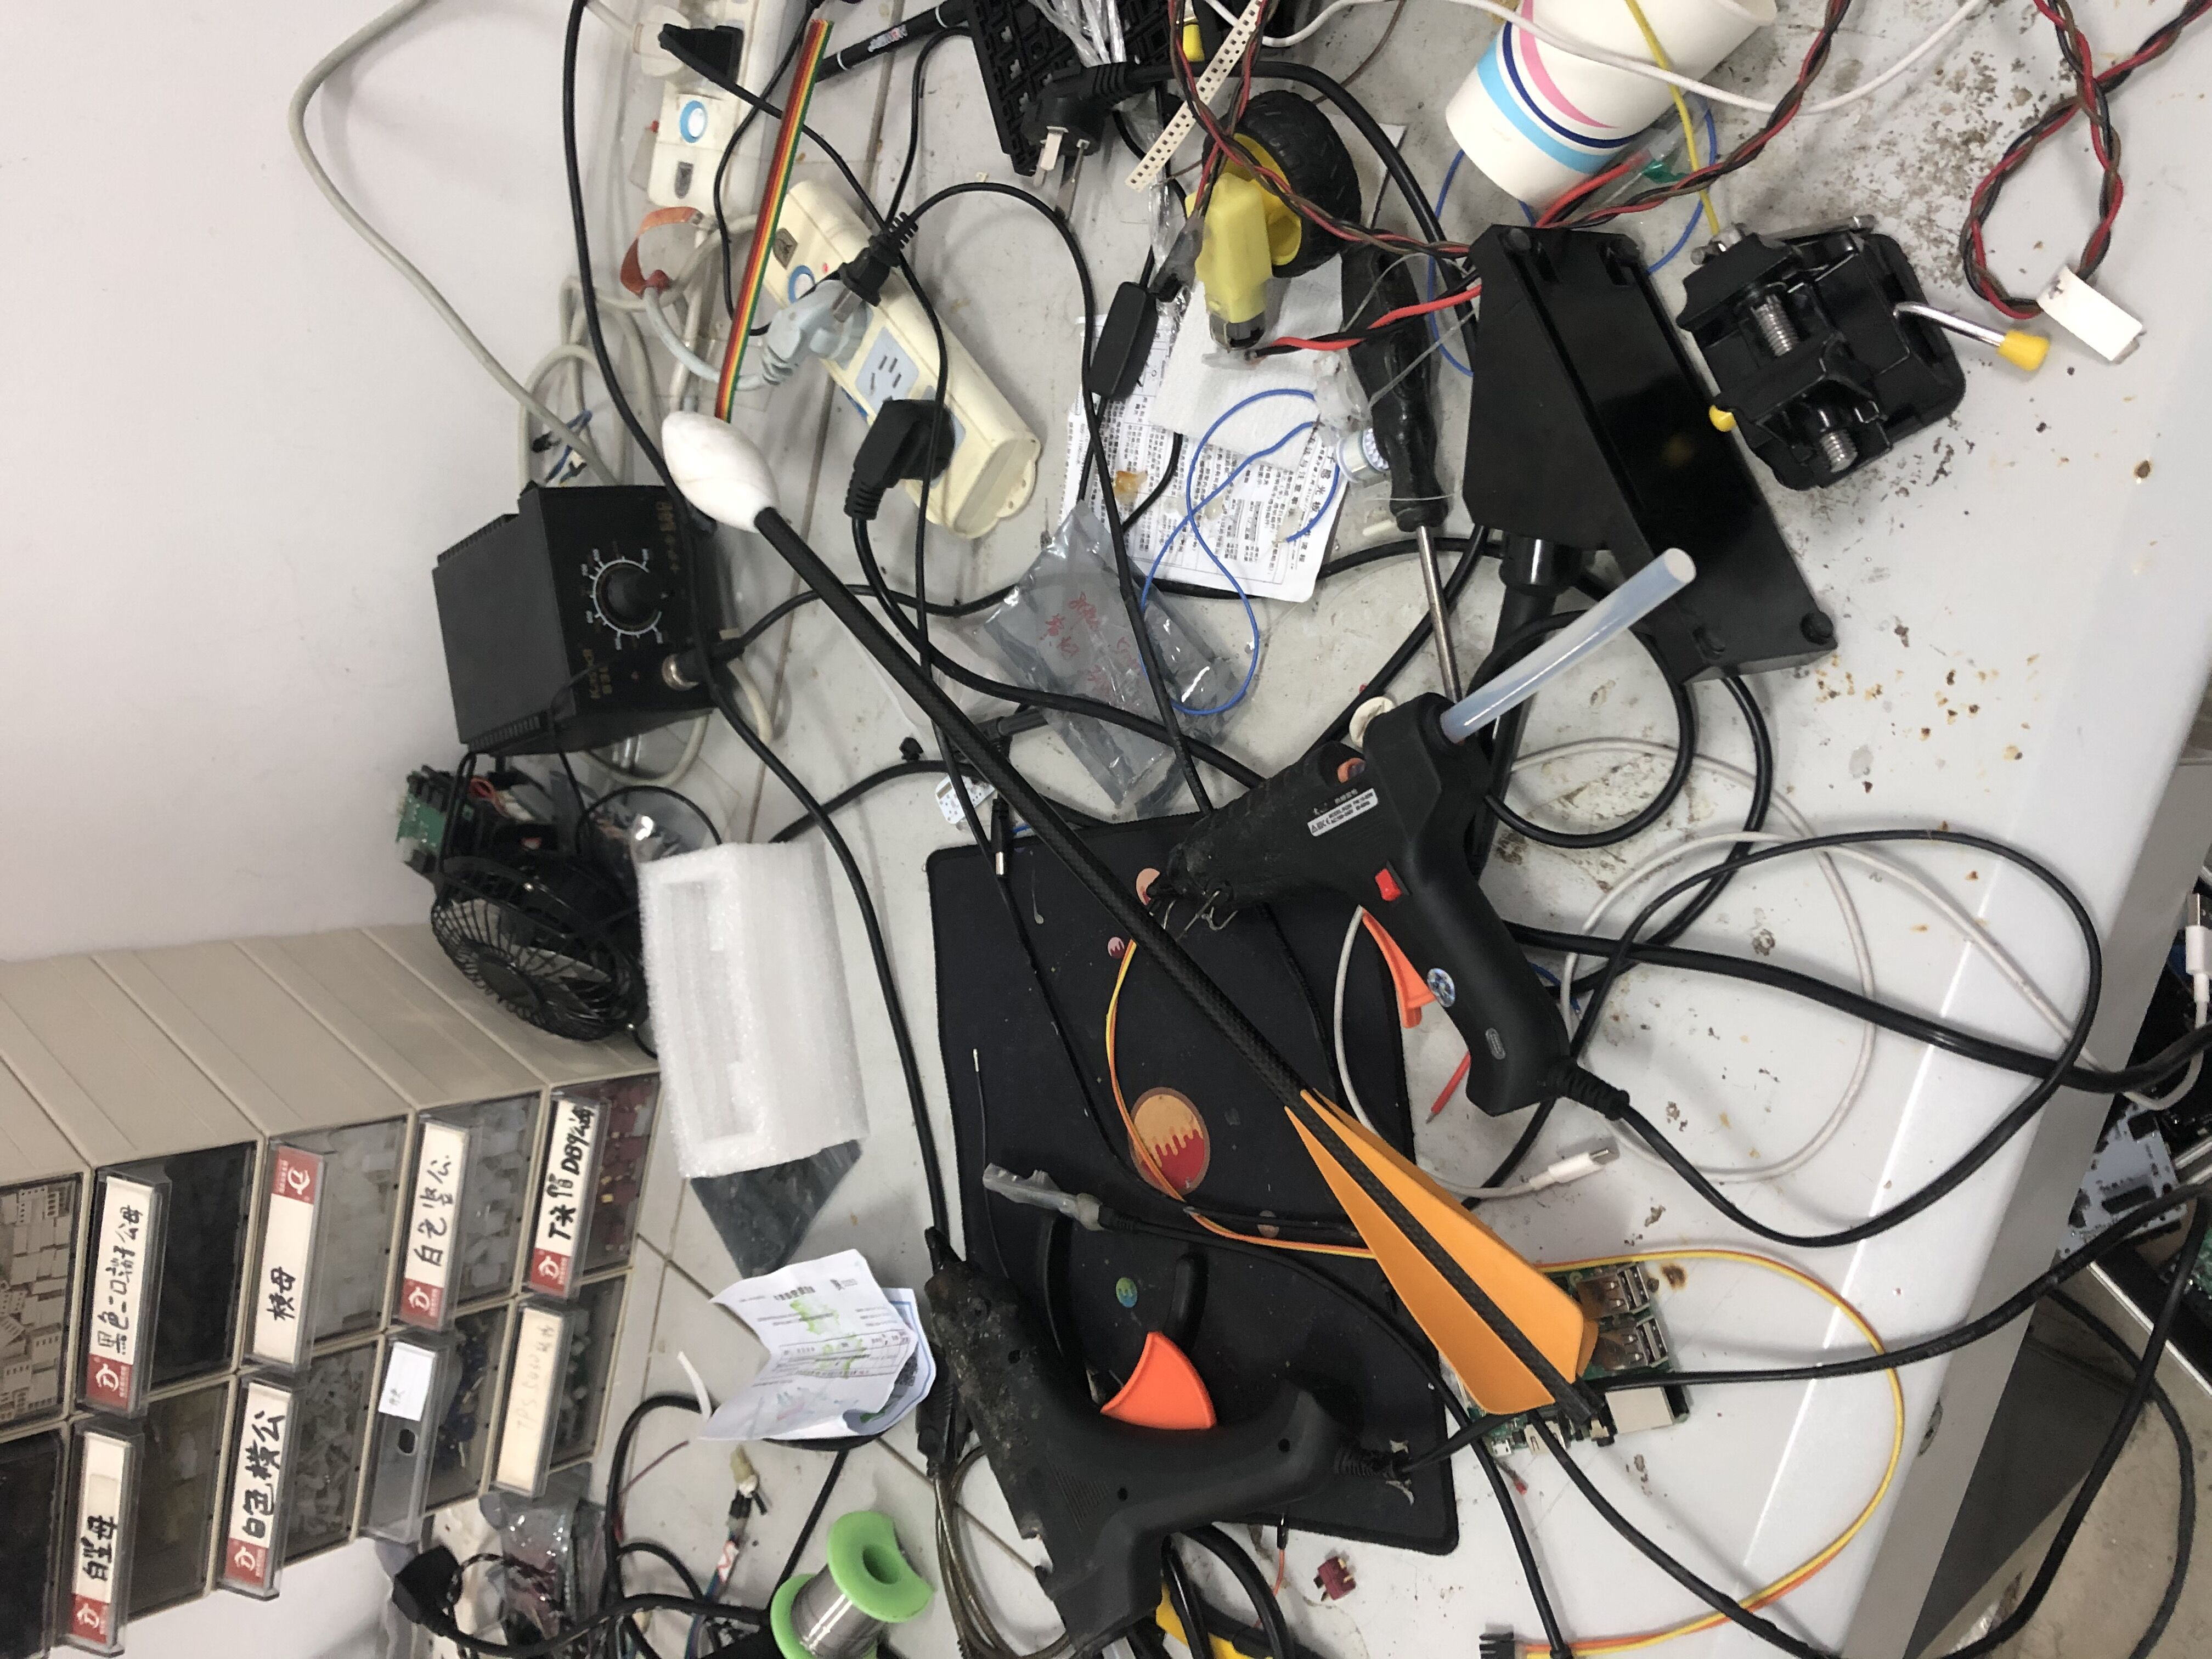arrow: (657, 408, 1609, 1436)
arrowFront: (657, 401, 779, 532)
